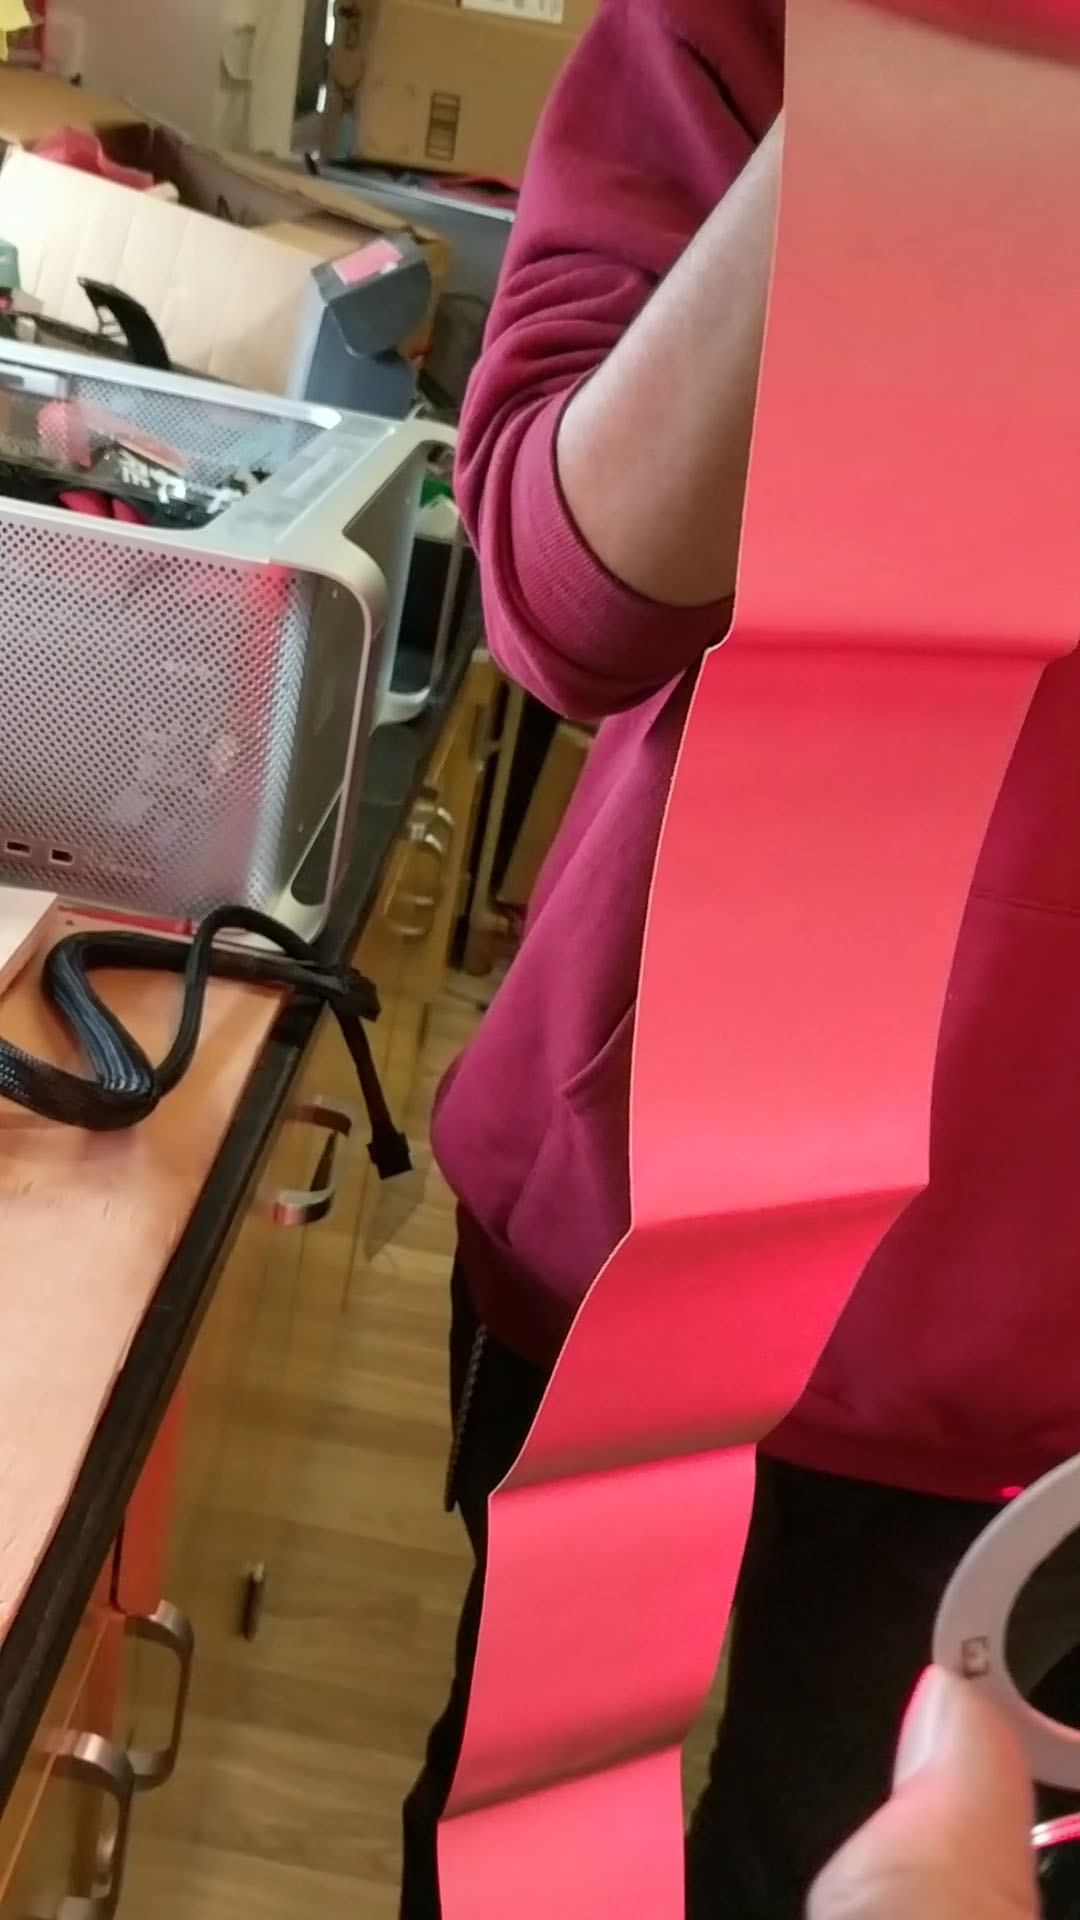gear: (440, 0, 1080, 1920)
